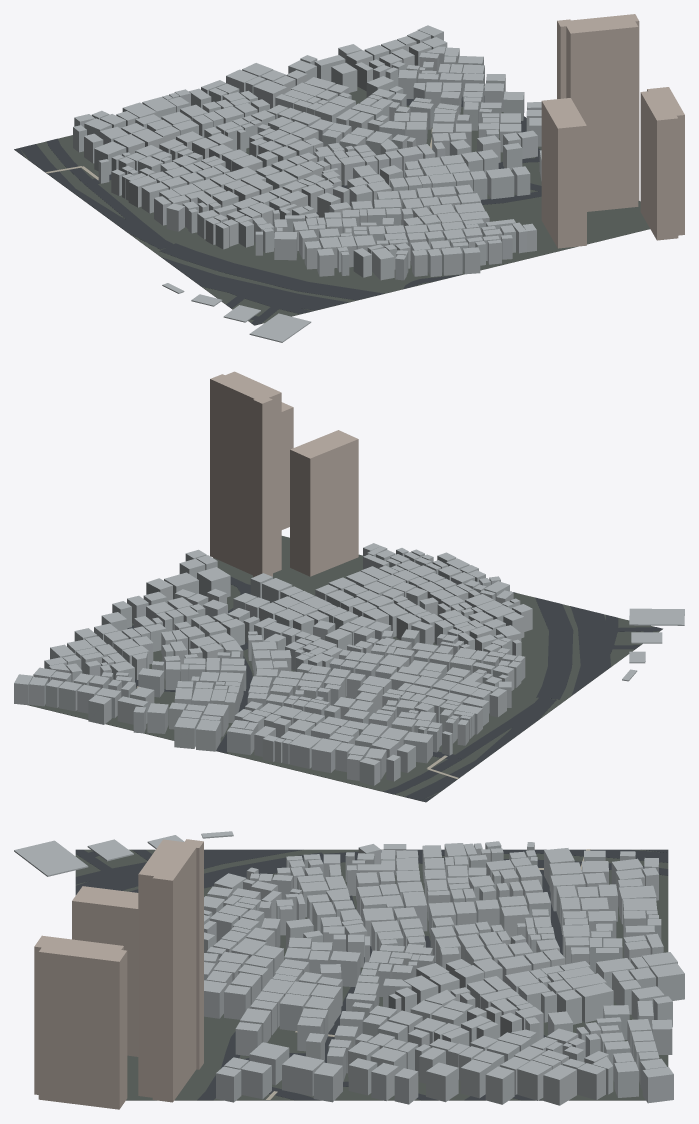
File: tile_006_003.glb
3 views of the same model, one above another, from view 1: azimuth 30°, elevation 25°; view 2: azimuth 150°, elevation 25°; view 3: azimuth 270°, elevation 25° (orthographic). The views are drawn at different scales.
Parts seen in each view (by area): view 1: tile_006_003_buildings_neutral, tile_006_003_buildings_residential, tile_006_003_ground, tile_006_003_roads; view 2: tile_006_003_buildings_neutral, tile_006_003_buildings_residential, tile_006_003_ground, tile_006_003_roads; view 3: tile_006_003_buildings_neutral, tile_006_003_buildings_residential, tile_006_003_ground, tile_006_003_roads.
Boxes of the visible parts, x1,y1,x2,y2 form: tile_006_003_buildings_neutral: (73,25,541,342); tile_006_003_buildings_residential: (541,14,684,248); tile_006_003_ground: (15,86,649,325); tile_006_003_roads: (14,88,541,325); tile_006_003_buildings_neutral: (14,543,684,785); tile_006_003_buildings_residential: (210,371,358,577); tile_006_003_ground: (28,536,662,802); tile_006_003_roads: (127,577,662,801); tile_006_003_buildings_neutral: (14,831,684,1105); tile_006_003_buildings_residential: (34,839,203,1109); tile_006_003_ground: (75,849,668,1100); tile_006_003_roads: (75,849,668,1100).
Bounding box in the file's own units: 277 × 103 × 283.
